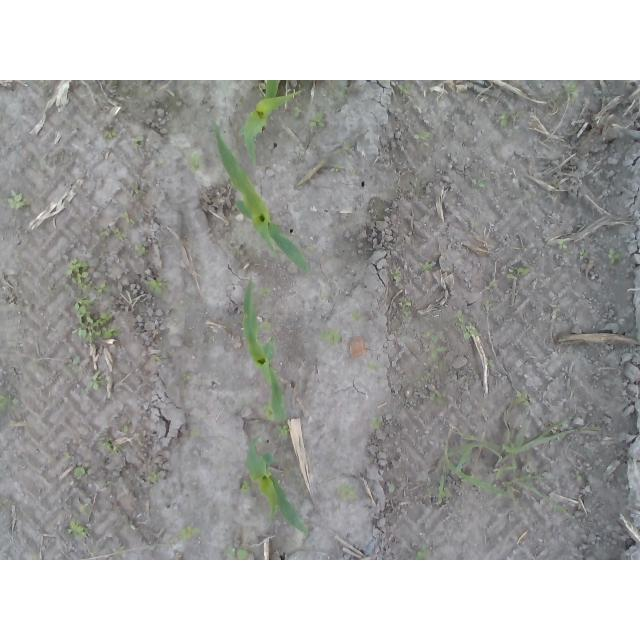Maize: (212, 126, 311, 274), (242, 435, 310, 538), (244, 278, 288, 425), (238, 80, 303, 170)
Weeds: (74, 293, 122, 343), (64, 259, 112, 294), (144, 278, 169, 298), (68, 518, 89, 538), (7, 191, 29, 210), (336, 483, 359, 501), (226, 544, 251, 560), (319, 328, 342, 345), (507, 265, 530, 281), (421, 330, 448, 342), (309, 112, 327, 129), (431, 344, 449, 361), (0, 392, 16, 411), (608, 247, 624, 266), (415, 544, 432, 561), (398, 80, 416, 96), (512, 390, 530, 406), (89, 376, 107, 391), (181, 527, 199, 542), (412, 128, 432, 141), (103, 439, 120, 454), (464, 322, 481, 337), (565, 81, 576, 104), (192, 152, 205, 171), (72, 465, 88, 480), (64, 355, 80, 370), (401, 298, 412, 319), (264, 403, 276, 422), (111, 545, 126, 560), (369, 415, 384, 430), (113, 227, 128, 241), (416, 260, 432, 273), (239, 480, 251, 497), (472, 177, 489, 189), (500, 111, 511, 129), (454, 310, 464, 327), (146, 471, 159, 484), (99, 228, 112, 241), (134, 244, 146, 257), (432, 390, 446, 401), (259, 287, 274, 297), (103, 129, 117, 139), (292, 105, 302, 119), (262, 321, 273, 333), (329, 164, 343, 173), (79, 503, 91, 513), (181, 372, 193, 382), (124, 215, 136, 225), (278, 426, 288, 438), (391, 271, 401, 282), (558, 239, 568, 250), (368, 360, 379, 370), (545, 95, 560, 102), (151, 354, 161, 364), (351, 311, 361, 321), (485, 360, 496, 369), (343, 144, 353, 153), (576, 471, 585, 481), (489, 280, 498, 289), (387, 484, 396, 493), (0, 498, 8, 507), (580, 248, 589, 256), (132, 138, 141, 145)
